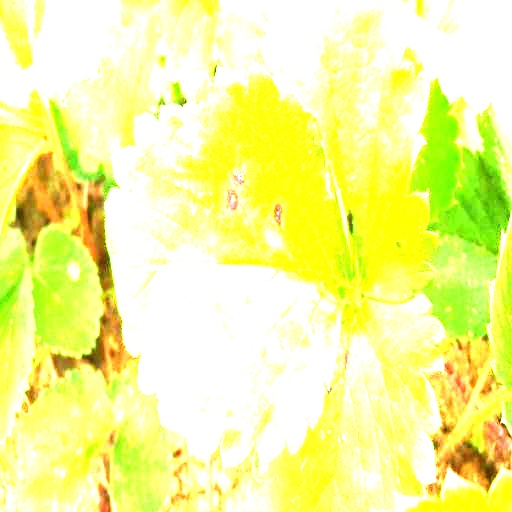Leaf Spot: (103, 60, 357, 469), (257, 0, 443, 303), (250, 294, 446, 511), (12, 366, 116, 511), (404, 0, 511, 115)
